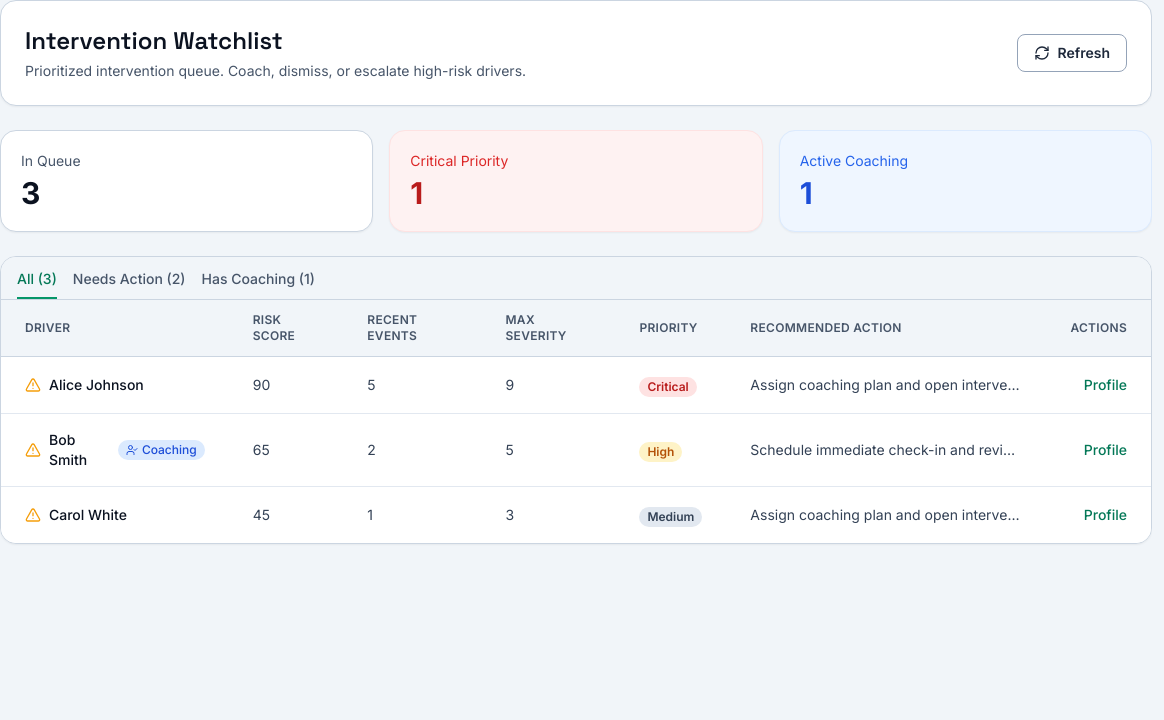
Test: Watchlist page › filter tab "Needs Action" hides coaching drivers
Expected: the text "Alice Johnson" is shown, [49,375,144,395]
Click the button "Needs Action (2)". click: click(129, 284)
box: [73,269,186,299]
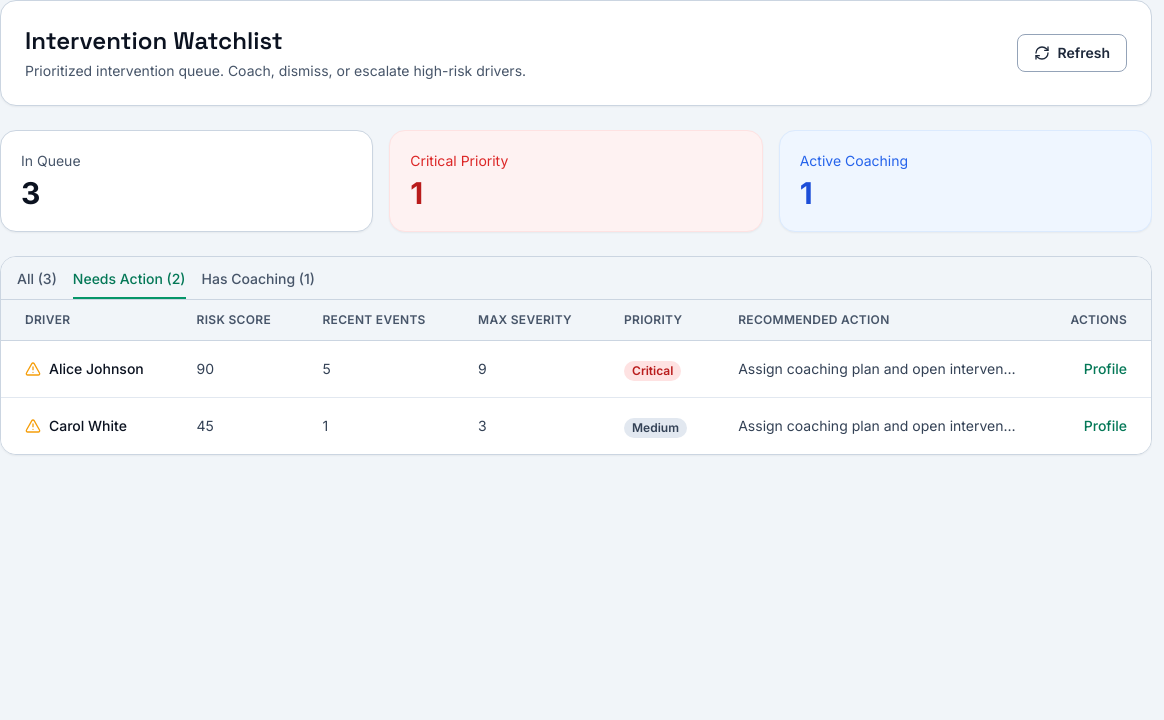
Expected: the text "Alice Johnson" is shown, [49,359,144,379]
Result: the text "Bob Smith" is gone
